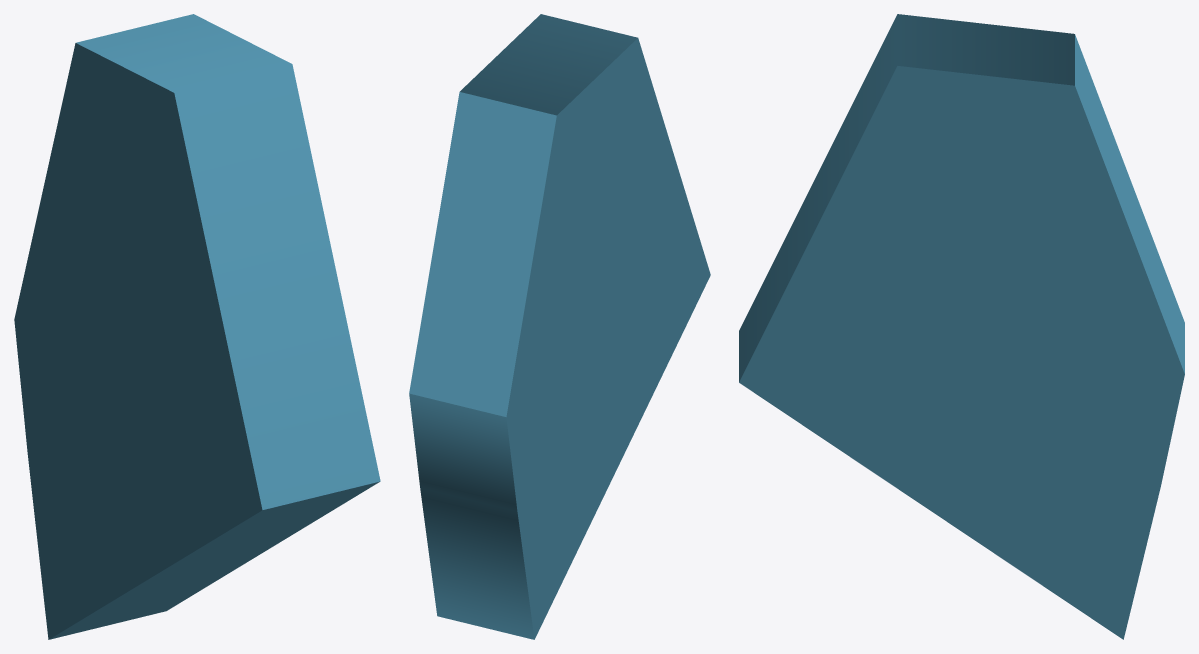
File: NexusC_Trigger_6.fbx
3 views of the same model, side by side, from view 1: azimuth 30°, elevation 25°; view 2: azimuth 150°, elevation 25°; view 3: azimuth 270°, elevation 25° (orthographic). The views are drawn at different scales.
Parts seen in each view (by area): view 1: polySurface70; view 2: polySurface70; view 3: polySurface70.
Part boxes in pixels (x1=…): polySurface70: x1=14, y1=14, x2=380, y2=639; polySurface70: x1=409, y1=14, x2=710, y2=639; polySurface70: x1=739, y1=14, x2=1184, y2=639.
Bounding box in the file's own units: 9.22 × 47.65 × 33.54.
